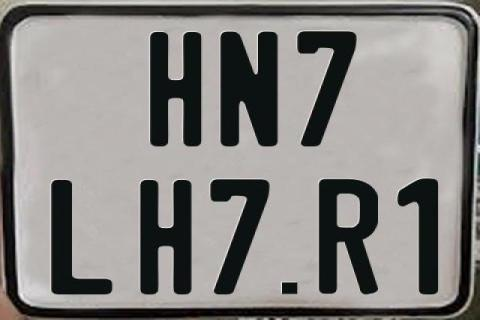0: (297, 29, 359, 150), (207, 178, 269, 296), (395, 178, 437, 294)
H: (150, 32, 208, 150), (140, 180, 198, 296)
L: (49, 178, 114, 294)
N: (217, 31, 275, 146)
R: (316, 178, 377, 296)
